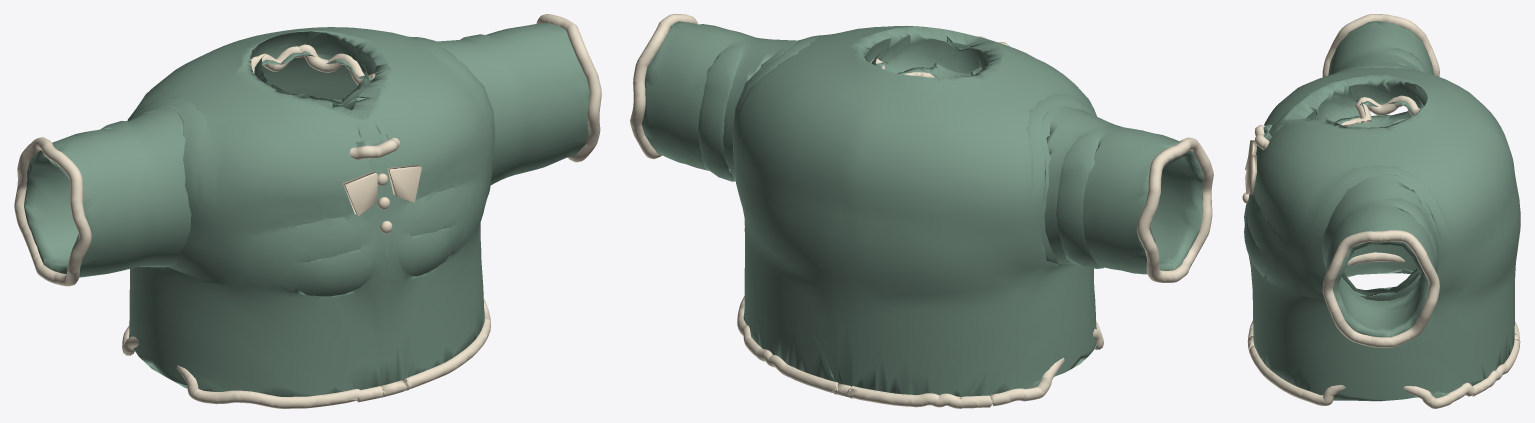
File: 3HT-feminino.glb
3 renders of one model, left to right at view 1: azimuth 30°, elevation 25°; view 2: azimuth 150°, elevation 25°; view 3: azimuth 270°, elevation 25°, orthographic. The views are drawn at different scales.
Visible parts, largest first — view 1: fitted-shell, bound-edge (×4), collar--1, collar-1; view 2: fitted-shell, bound-edge (×3); view 3: fitted-shell, bound-edge (×4), collar-1.
Boxes of the visible parts, box(x1,y1,x2,y2) form: fitted-shell: box(24, 23, 589, 396); bound-edge (×4): box(14, 14, 601, 408); collar--1: box(343, 171, 377, 216); collar-1: box(387, 165, 421, 202); fitted-shell: box(641, 21, 1204, 396); bound-edge (×3): box(630, 14, 1213, 408); fitted-shell: box(1244, 21, 1520, 401); bound-edge (×4): box(1247, 14, 1520, 408); collar-1: box(1245, 155, 1256, 194).
Bounding box in the file's own units: 0.0629 × 0.0327 × 0.0331.
